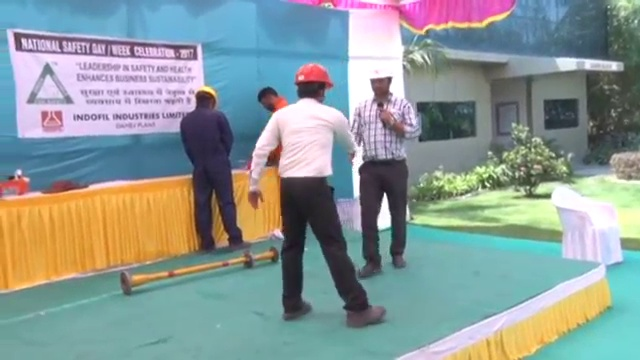helmet: (293, 60, 337, 89), (195, 84, 220, 106), (365, 63, 394, 81)
helmet_off: (254, 85, 284, 112)
helmet_on: (291, 58, 336, 108), (363, 61, 396, 101), (194, 82, 221, 112)
person: (249, 59, 386, 328), (349, 61, 421, 279), (179, 81, 252, 249)
